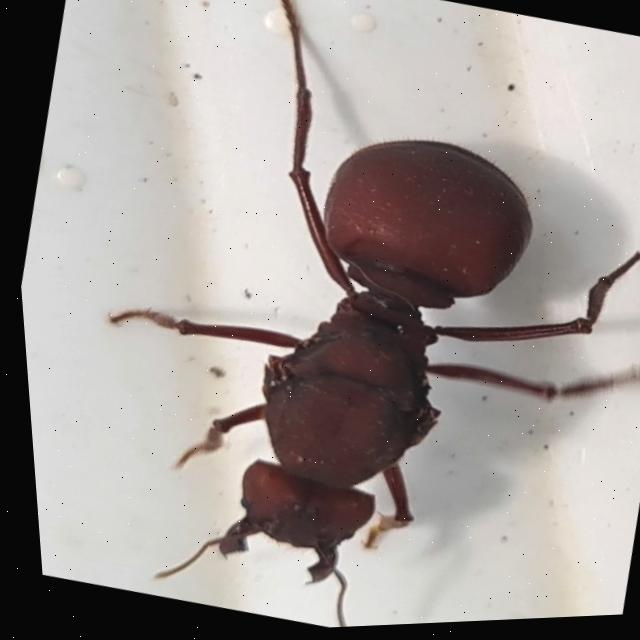Alive-Female-Dealate: (26, 0, 640, 639)
